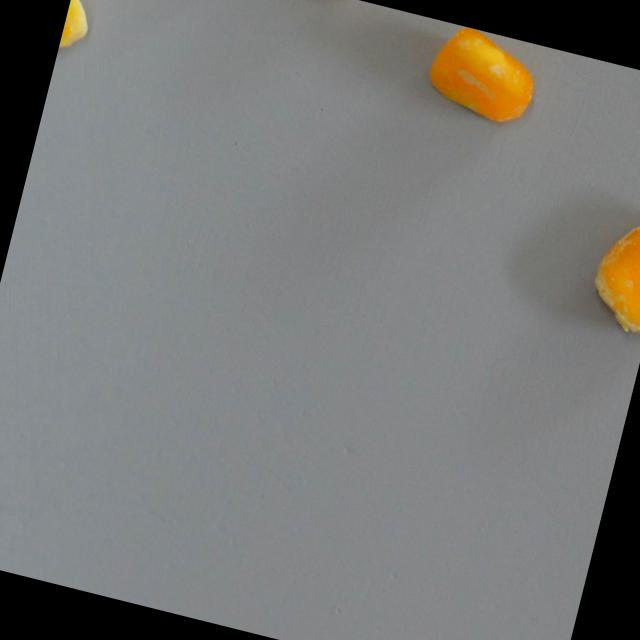pelicula: (420, 20, 543, 128), (580, 190, 640, 333), (57, 0, 95, 59)
